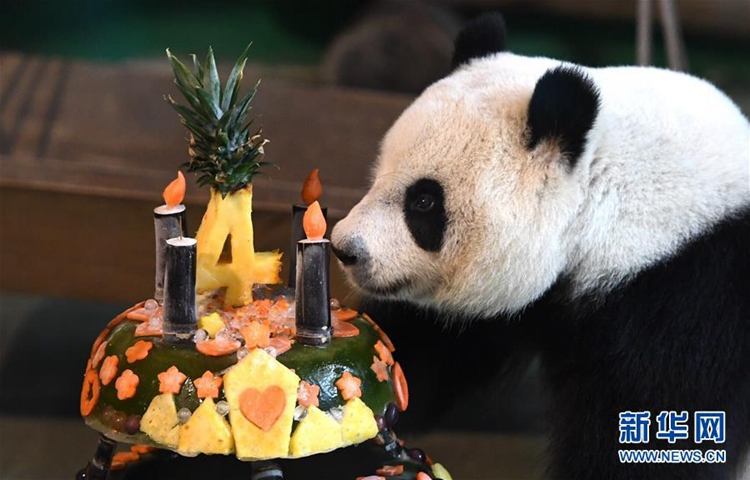panda: (356, 45, 750, 418)
